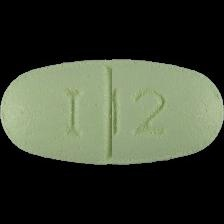64725-0212: (0, 0, 224, 224)
